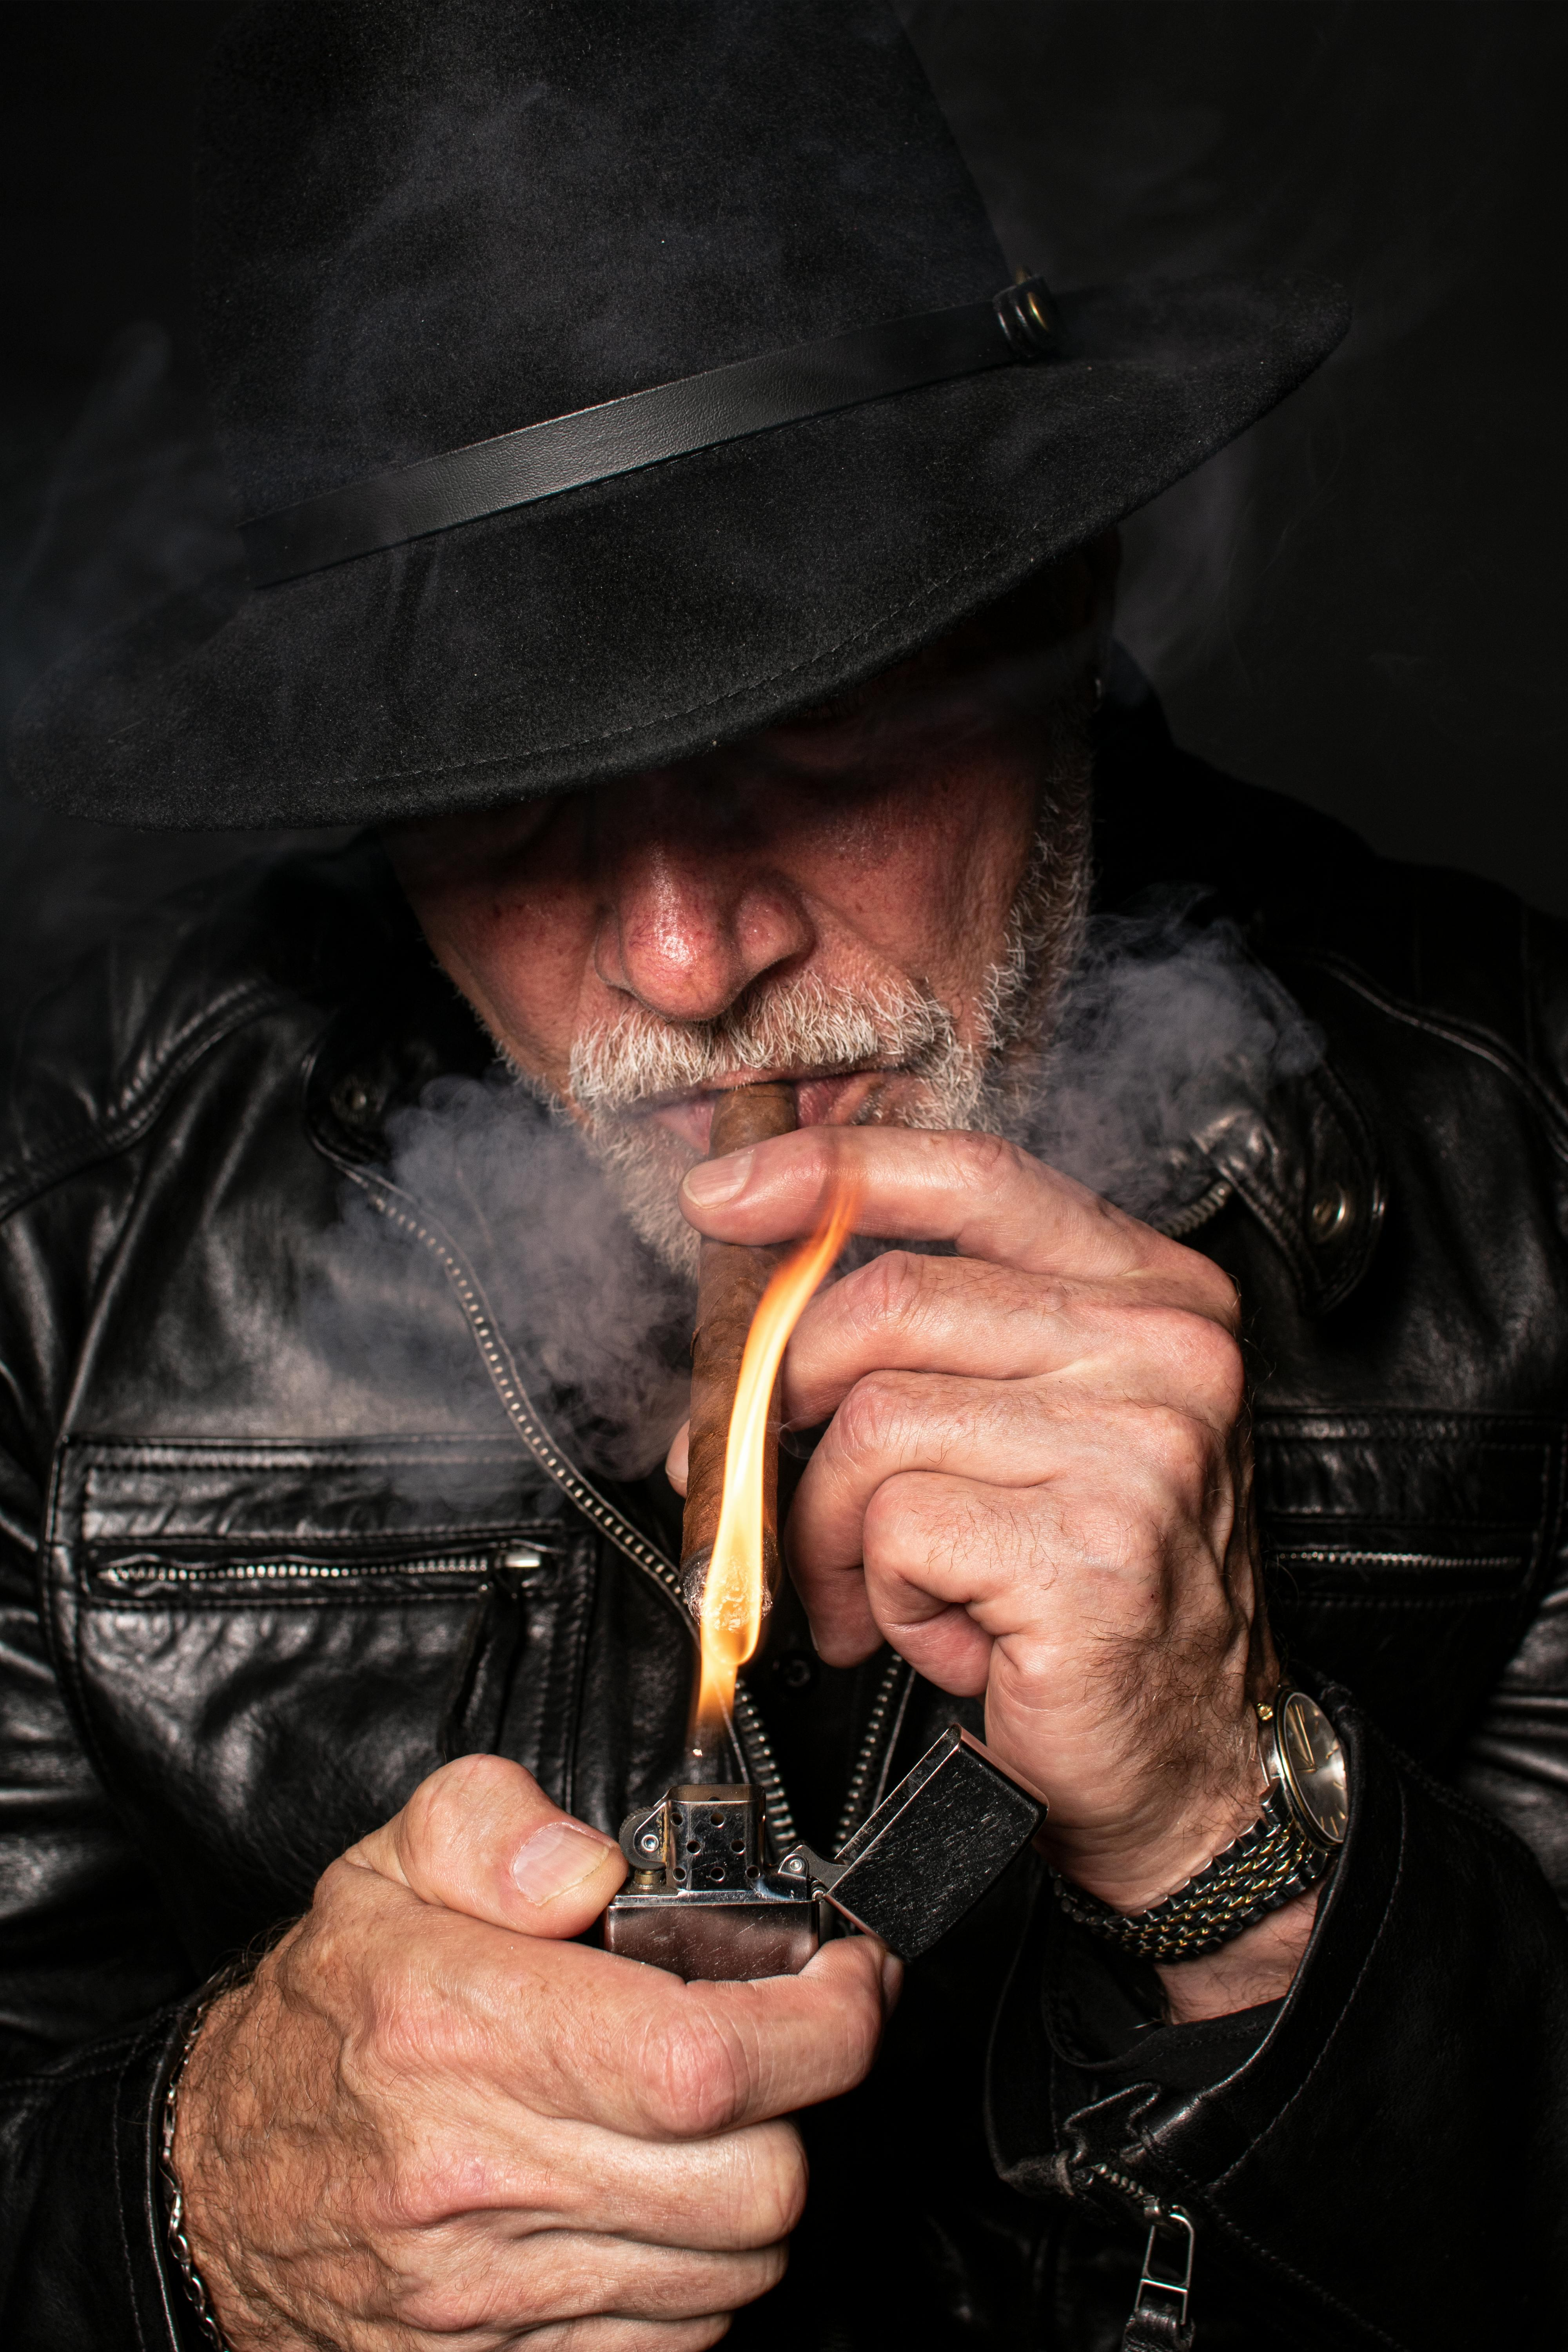Fire: (641, 1145, 873, 1736)
